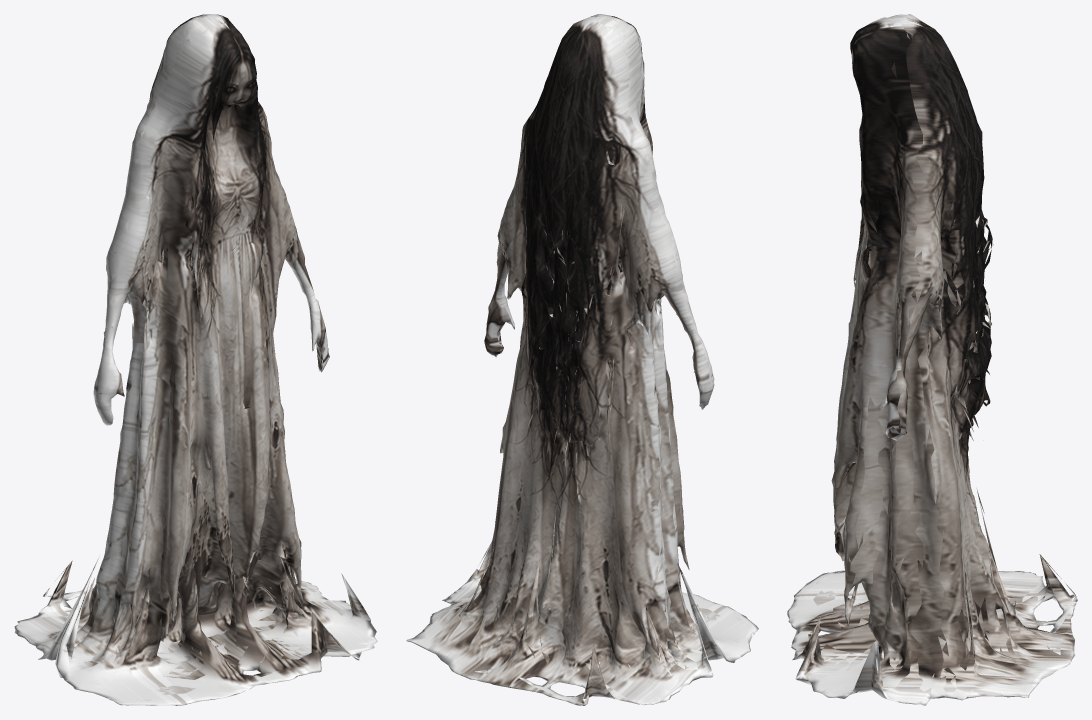
File: ghost.glb
3 renders of one model, left to right at view 1: azimuth 30°, elevation 25°; view 2: azimuth 150°, elevation 25°; view 3: azimuth 270°, elevation 25°, orthographic. The views are drawn at different scales.
Parts seen in each view (by area): view 1: geometry_0; view 2: geometry_0; view 3: geometry_0.
Part boxes in pixels (box(x1,y1,x2,y2)): geometry_0: box(14, 14, 377, 705); geometry_0: box(406, 14, 758, 705); geometry_0: box(787, 14, 1077, 705).
Size of the model in its own units: 0.9675 by 1.97 by 0.8392.
Materials: 1 (1 with a texture image).
